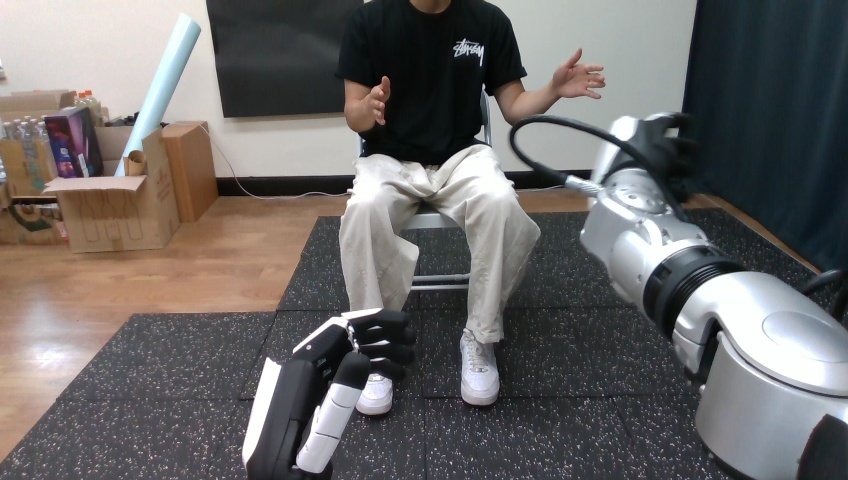left robot hand: (510, 113, 847, 478), (242, 308, 414, 479), (551, 48, 604, 98)
